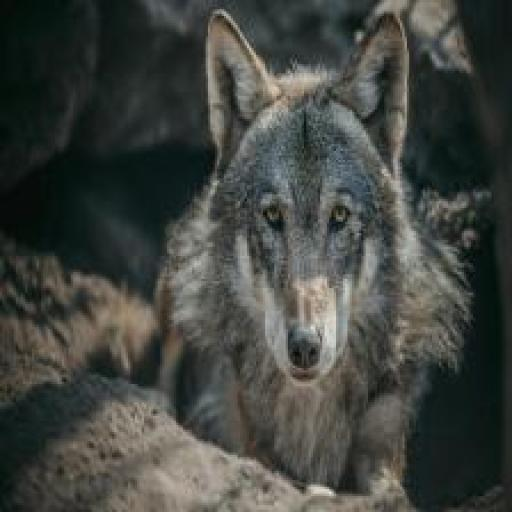wolf: (153, 9, 479, 512)
